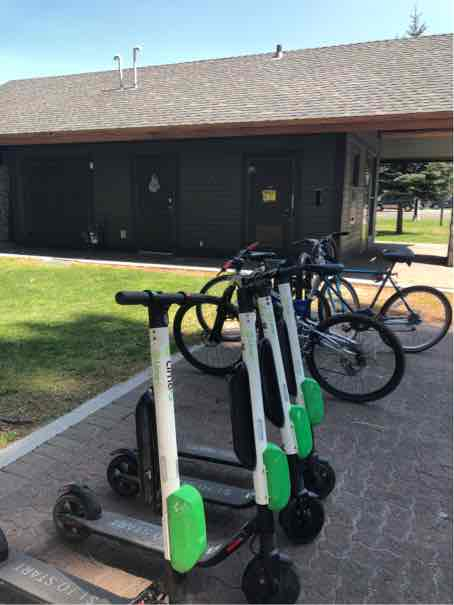scooter: (50, 279, 303, 605), (97, 266, 328, 543), (136, 259, 338, 507)
